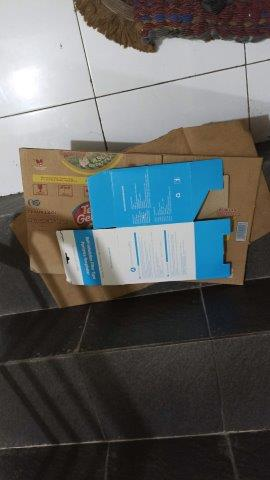kardus: (13, 128, 270, 300)
